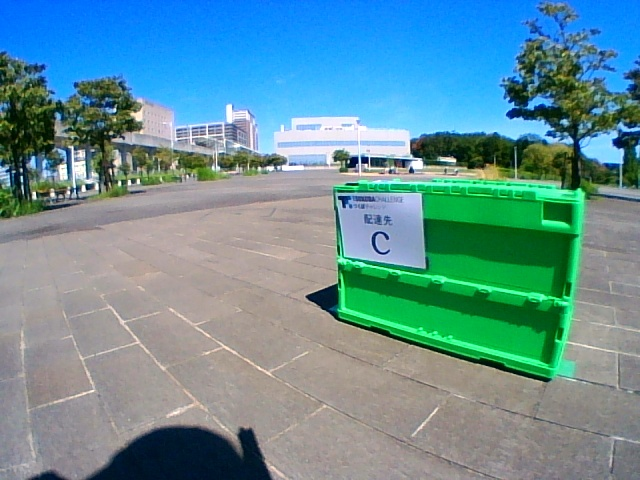green_box: (334, 178, 585, 379)
tag_c: (343, 194, 422, 258)
